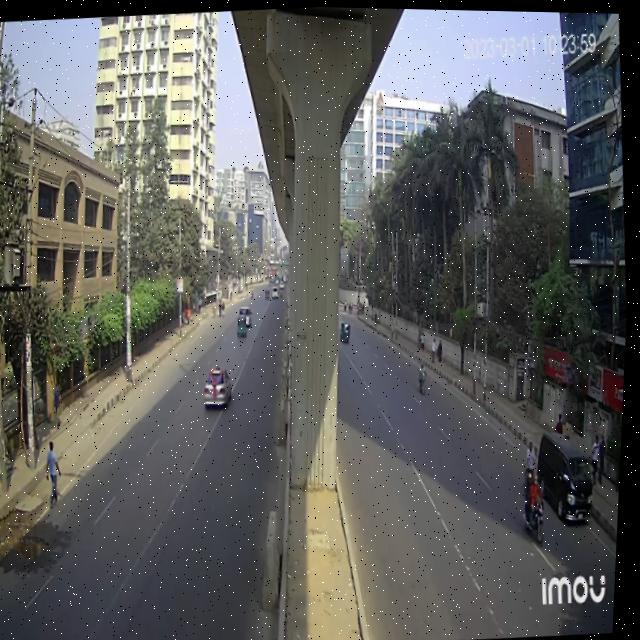cng: (237, 310, 252, 342), (341, 317, 355, 344)
